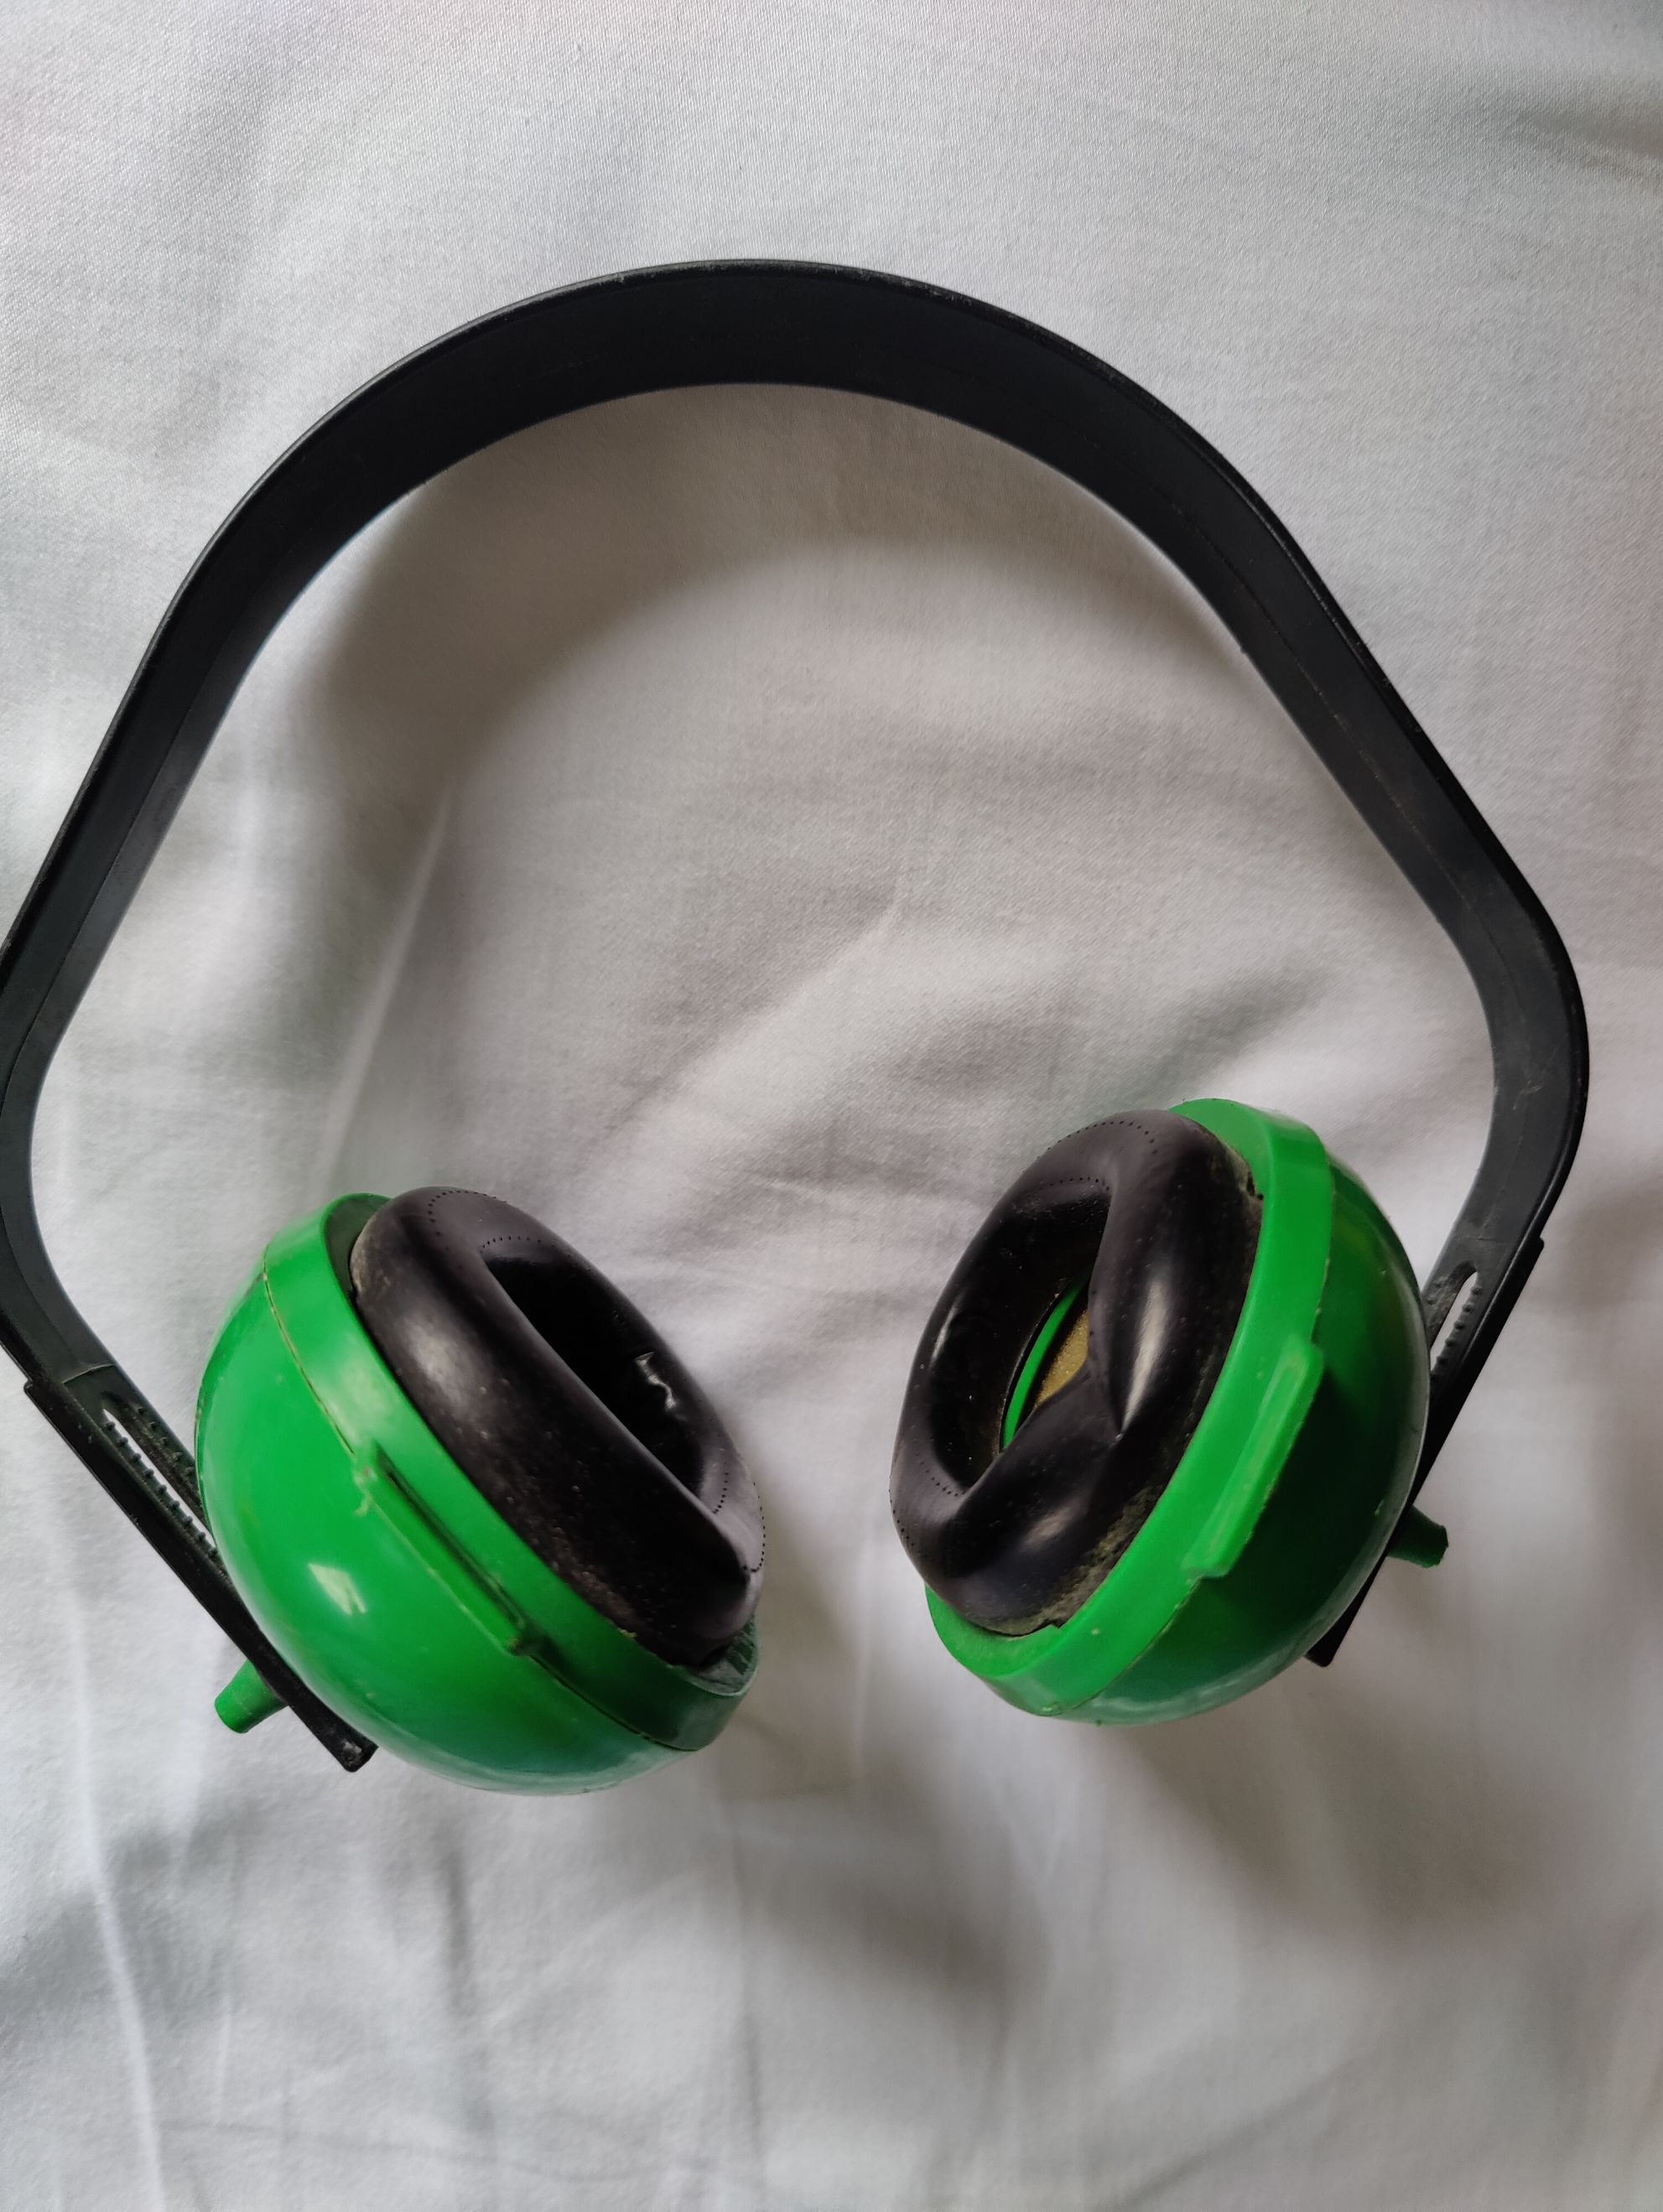headphones: (14, 253, 1590, 1826)
